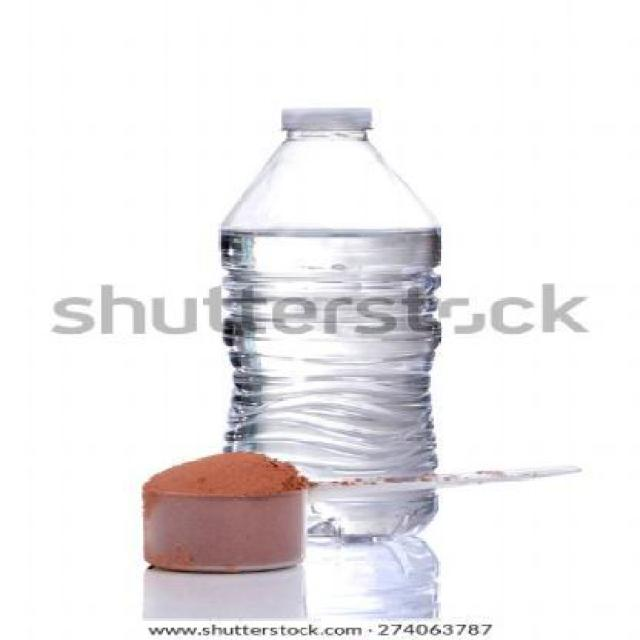bottle: (217, 103, 446, 543)
